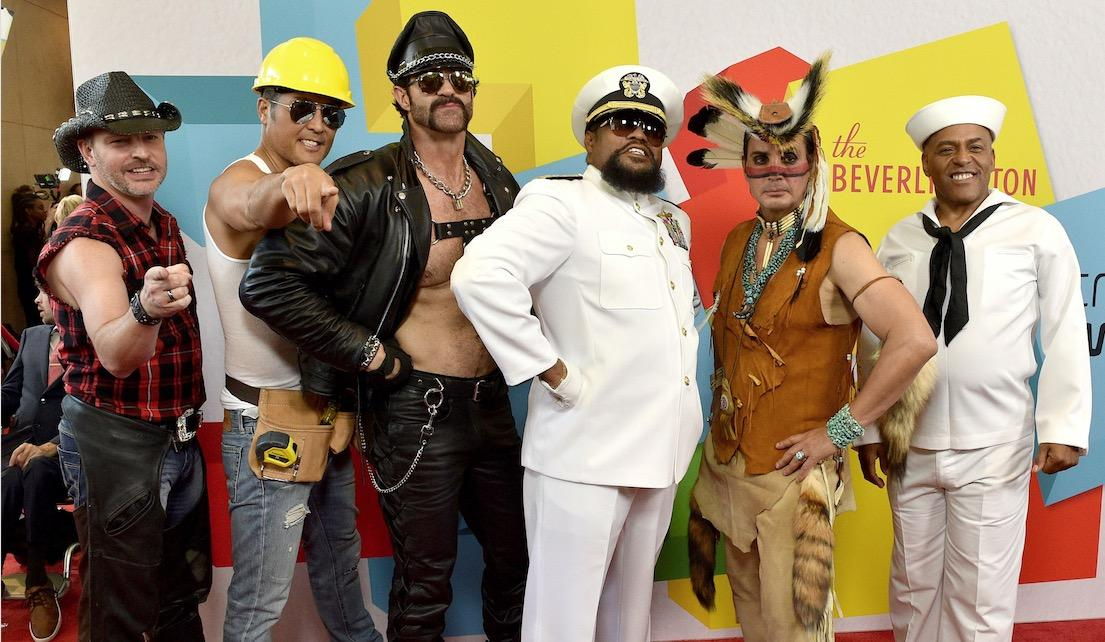without_mask: (95, 129, 165, 193), (754, 136, 810, 207), (276, 95, 337, 160), (604, 108, 662, 175), (417, 61, 469, 126), (937, 136, 990, 194)
